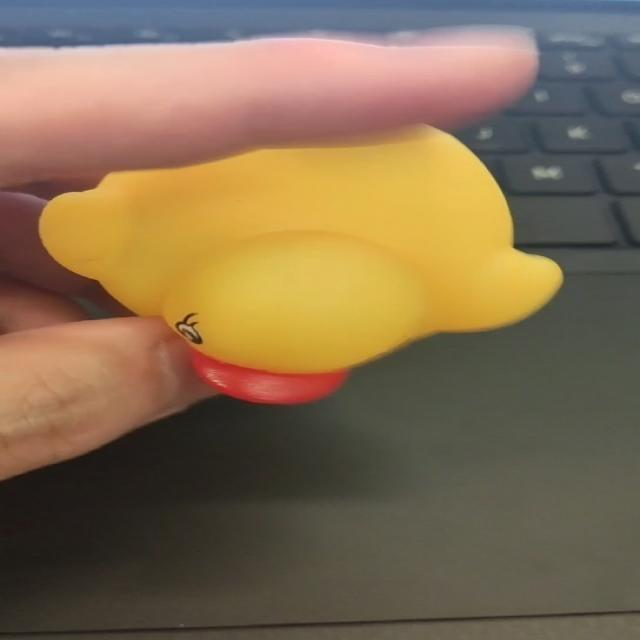rubber-duck: (38, 124, 561, 401)
